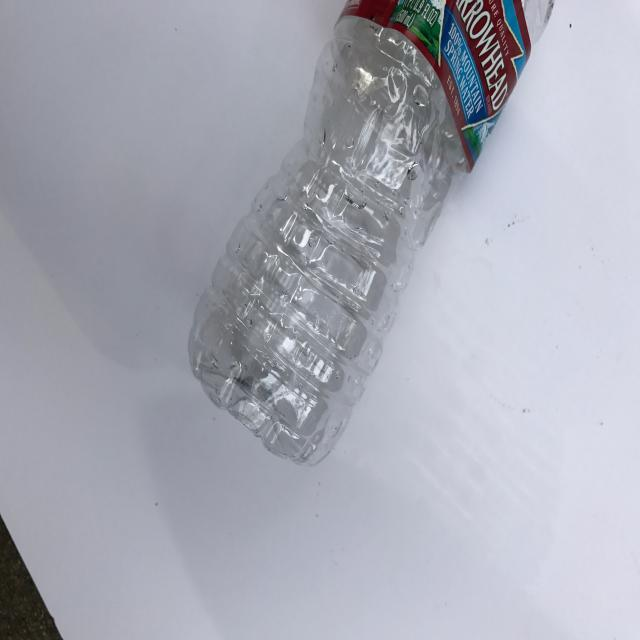plastic: (184, 1, 564, 474)
